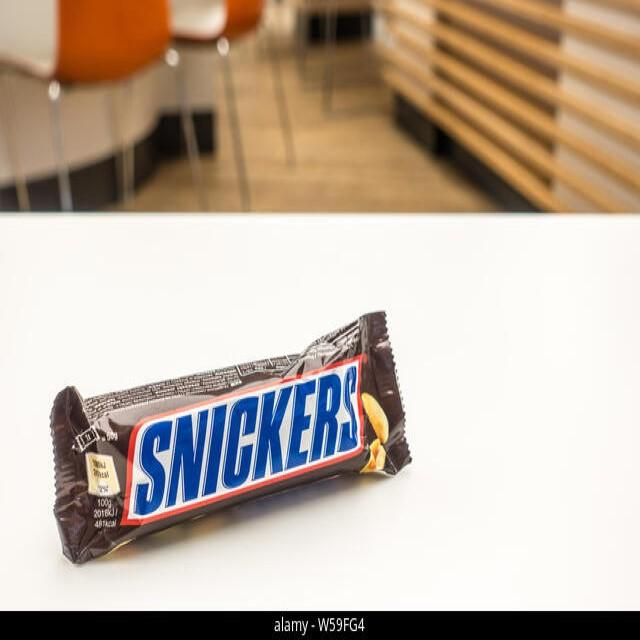snickers_chocolate: (70, 317, 413, 560)
